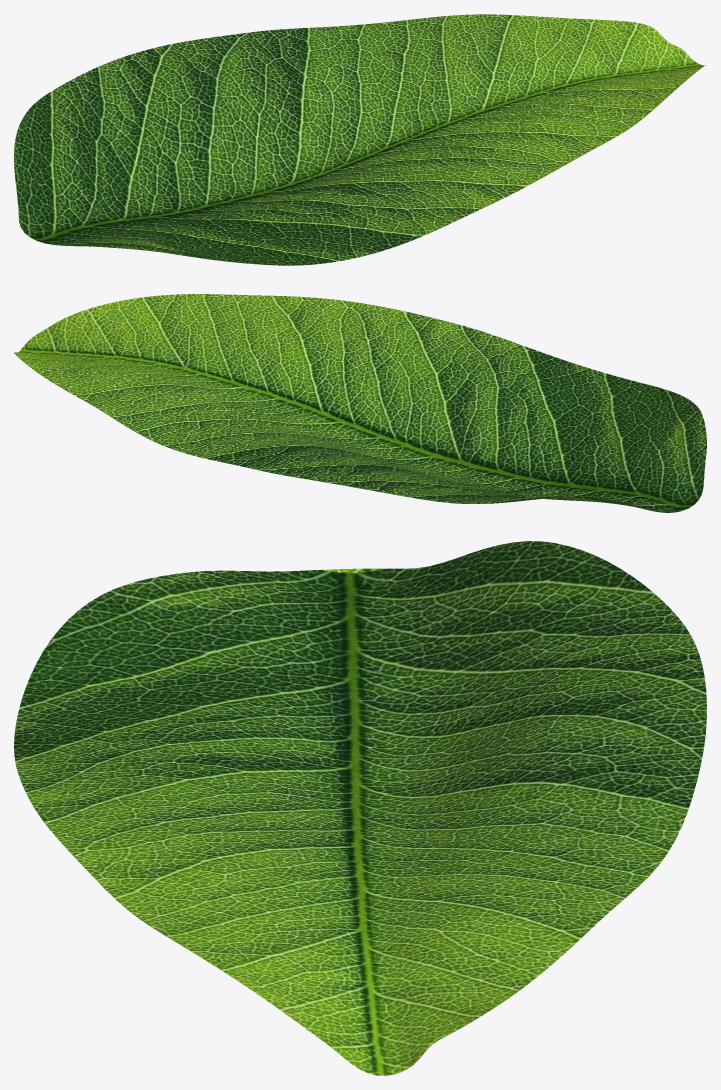
Rendered from leaf_c6.glb.
3 renders of one model, top to bottom at view 1: azimuth 30°, elevation 25°; view 2: azimuth 150°, elevation 25°; view 3: azimuth 270°, elevation 25°, orthographic. The views are drawn at different scales.
Visible parts, largest first — view 1: Circle.019; view 2: Circle.019; view 3: Circle.019.
Part boxes in pixels (left/top/right/bottom): Circle.019: left=14, top=14, right=706, bottom=265; Circle.019: left=14, top=294, right=706, bottom=512; Circle.019: left=14, top=541, right=706, bottom=1075.
Size of the model in its own units: 0.9999 by 0.086 by 0.5781.
1 material, 1 textured.
